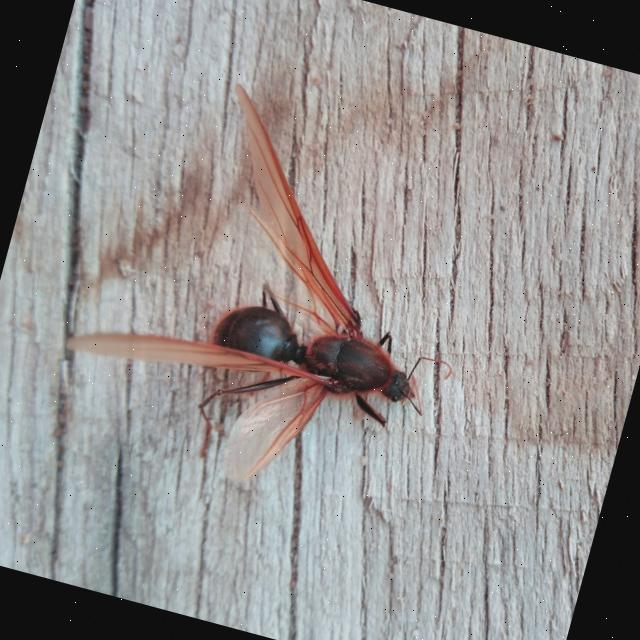Dead-Male-Alate: (42, 56, 510, 528)
